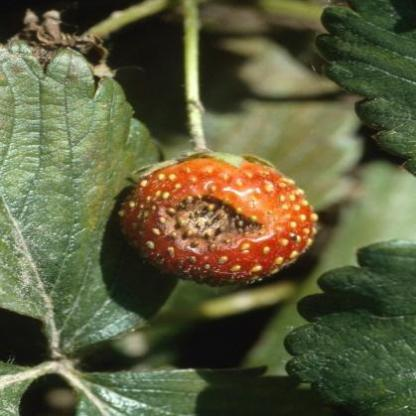Strawberry_Anthracnose_Fruit_Rot: (146, 192, 278, 256)
